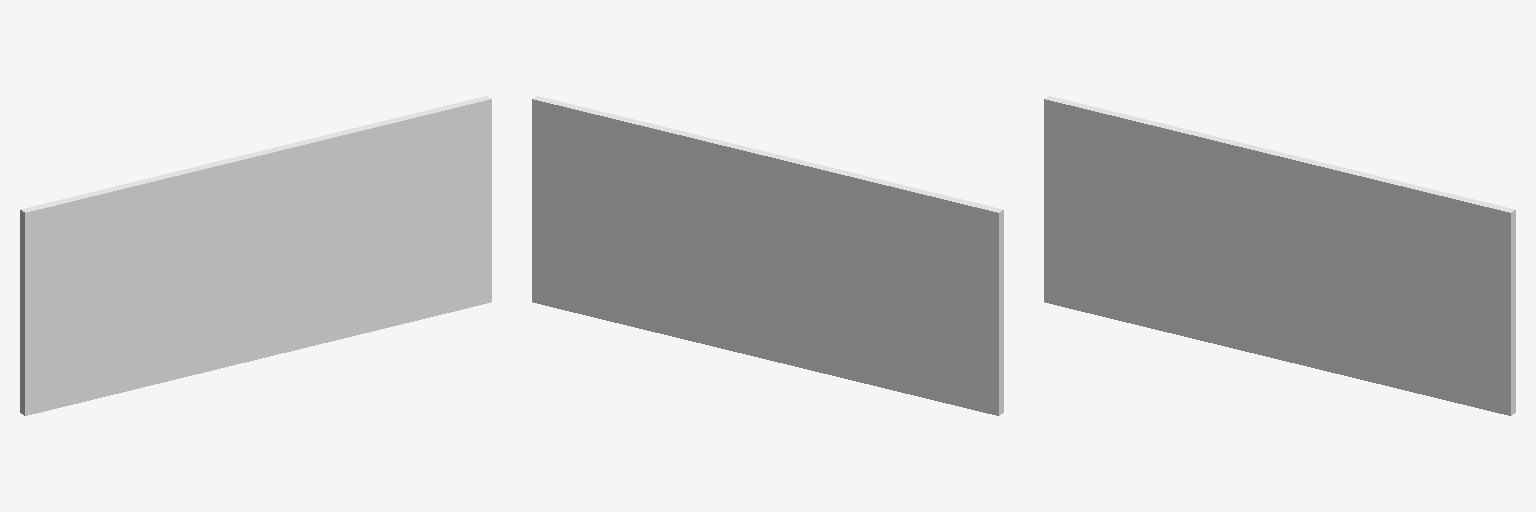
robot.urdf — station.urdf:
<?xml version="0.0" ?>
<robot name="station.urdf">
  <link name="baseLink">
    <contact>
      <lateral_friction value="0.8"/>
      <rolling_friction value="0.001"/>g
      <contact_cfm value="0.0"/>
      <contact_erp value="1.0"/>
    </contact>
    <inertial>
    <origin rpy="0 0 0" xyz="0.0 0.0 0.0"/>
       <mass value="100"/>
       <inertia ixx="1e-3" ixy="0" ixz="0" iyy="1e-3" iyz="0" izz="1e-3"/>
    </inertial>
    <visual>
      <geometry>
        <mesh filename="tabletop1.obj" scale="1.2 1 1"/>
      </geometry>
      <material name="white">
        <color rgba="1.0 1.0 1.0 1.0"/>
      </material>>
    </visual>
    <collision>
      <geometry>
        <mesh filename="tabletop1.obj" scale="1.2 1 1"/>
      </geometry>
    </collision>
  </link>
</robot>

--- Render facts (derived) ---
Views: 3 orthographic renders of the robot side by side, from view 1: azimuth 30°, elevation 25°; view 2: azimuth 150°, elevation 25°; view 3: azimuth 330°, elevation 25°.
Model station.urdf with 1 links and 0 joints (none), rooted at baseLink, posed all joints at 0.
Links seen in each view (by area): view 1: baseLink; view 2: baseLink; view 3: baseLink.
Boxes of the visible links, x1,y1,x2,y2 form: baseLink: (20,96,491,415); baseLink: (532,96,1003,415); baseLink: (1044,96,1515,415).
Bounding box of the posed robot: 1.83 × 0.0318 × 0.762 m (x, y, z).
1 mesh visuals loaded from 1 distinct referenced files (1 OBJ).